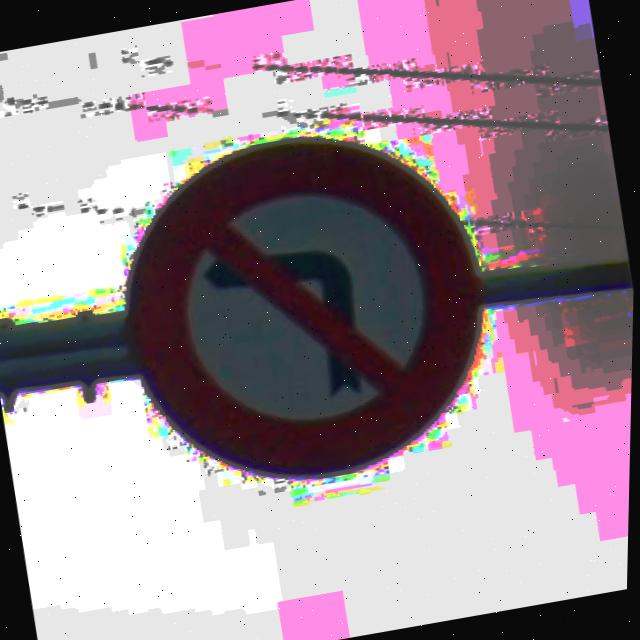noturnleft: (94, 105, 515, 505)
